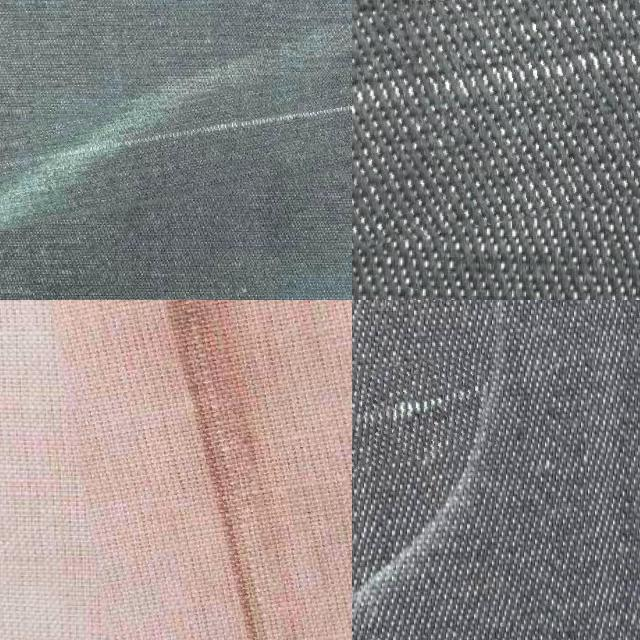Thread_other: (58, 300, 352, 640), (352, 0, 640, 271), (0, 66, 352, 221), (352, 360, 493, 474)
